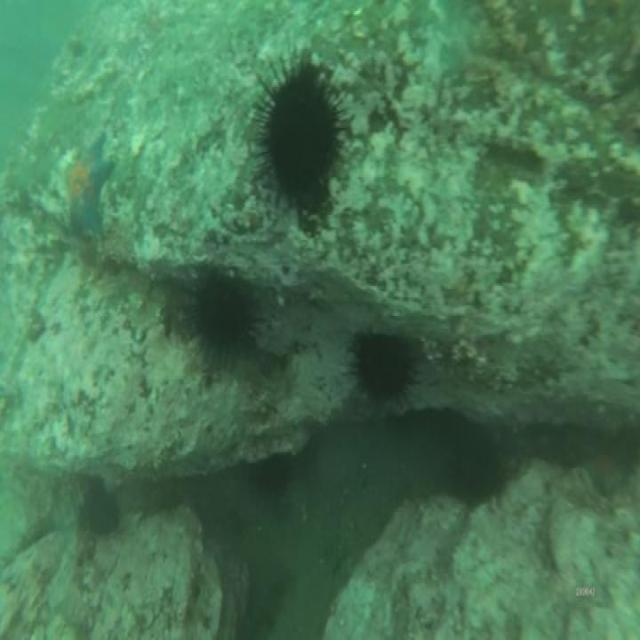echinus: (259, 57, 342, 220), (184, 256, 257, 376), (441, 416, 509, 510), (352, 326, 416, 412), (80, 474, 124, 541)
starfish: (65, 130, 116, 242)
